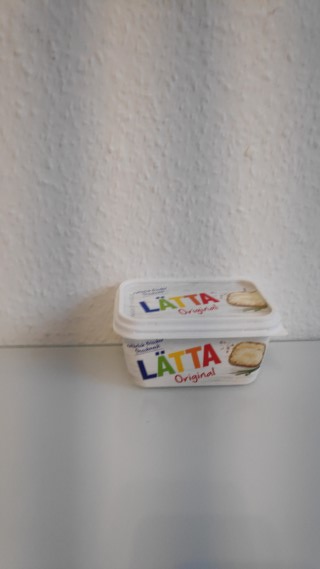laetta: (112, 275, 289, 388)
